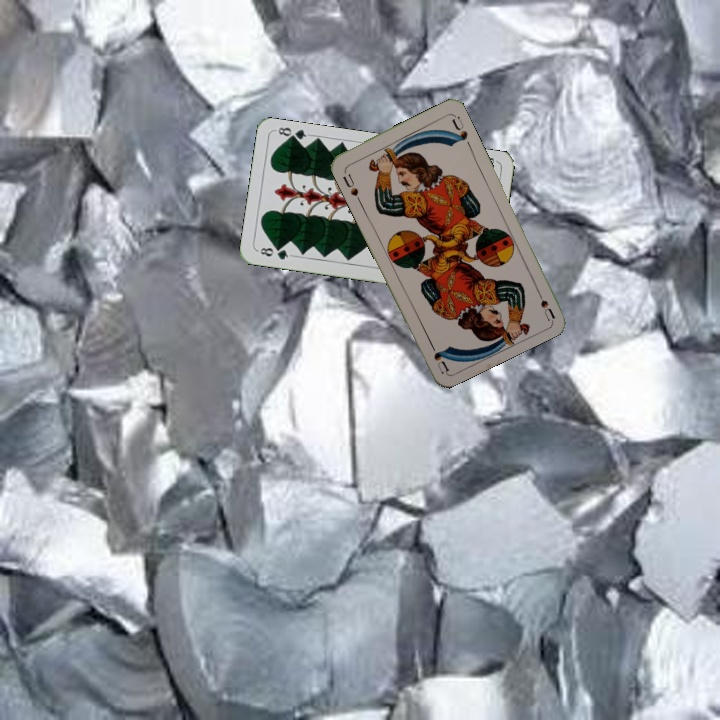G8: (254, 243, 294, 262)
SU: (531, 282, 557, 322), (339, 166, 361, 199)
